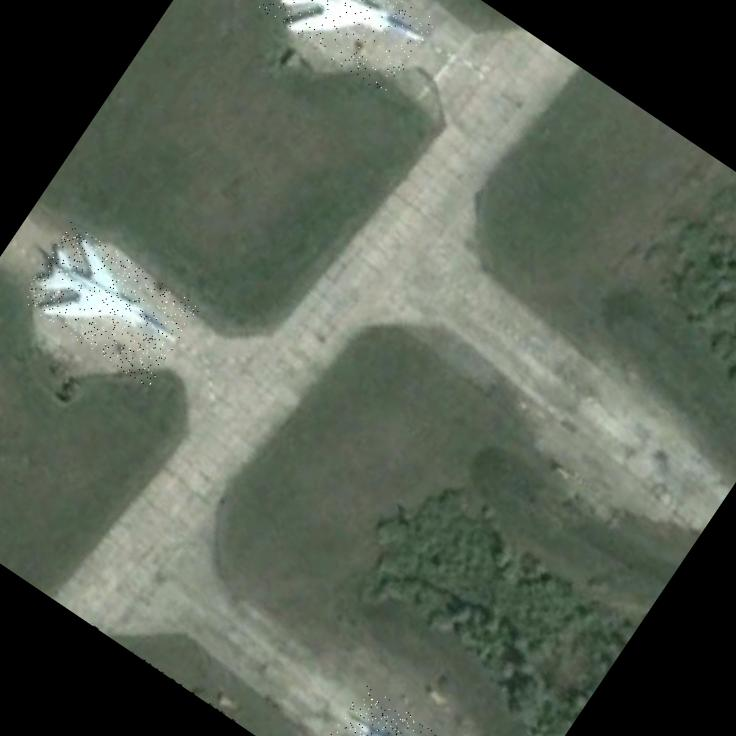A12: (16, 220, 201, 388), (256, 0, 435, 96), (316, 683, 498, 736)
